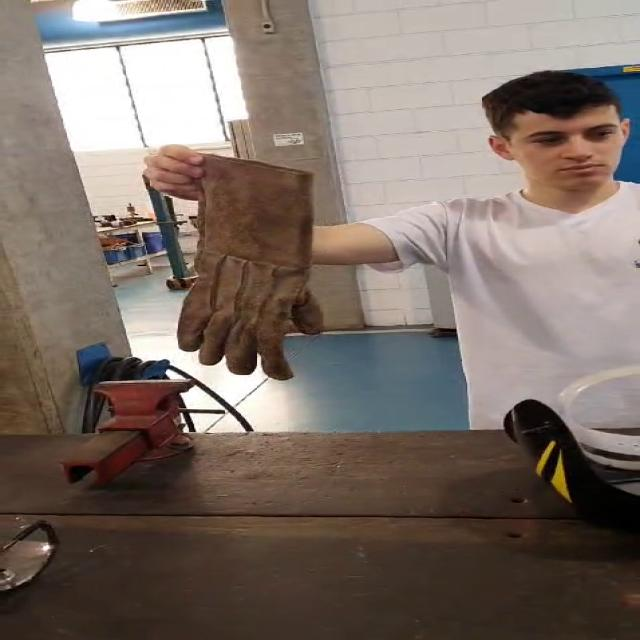sem_oculos: (494, 131, 638, 152)
